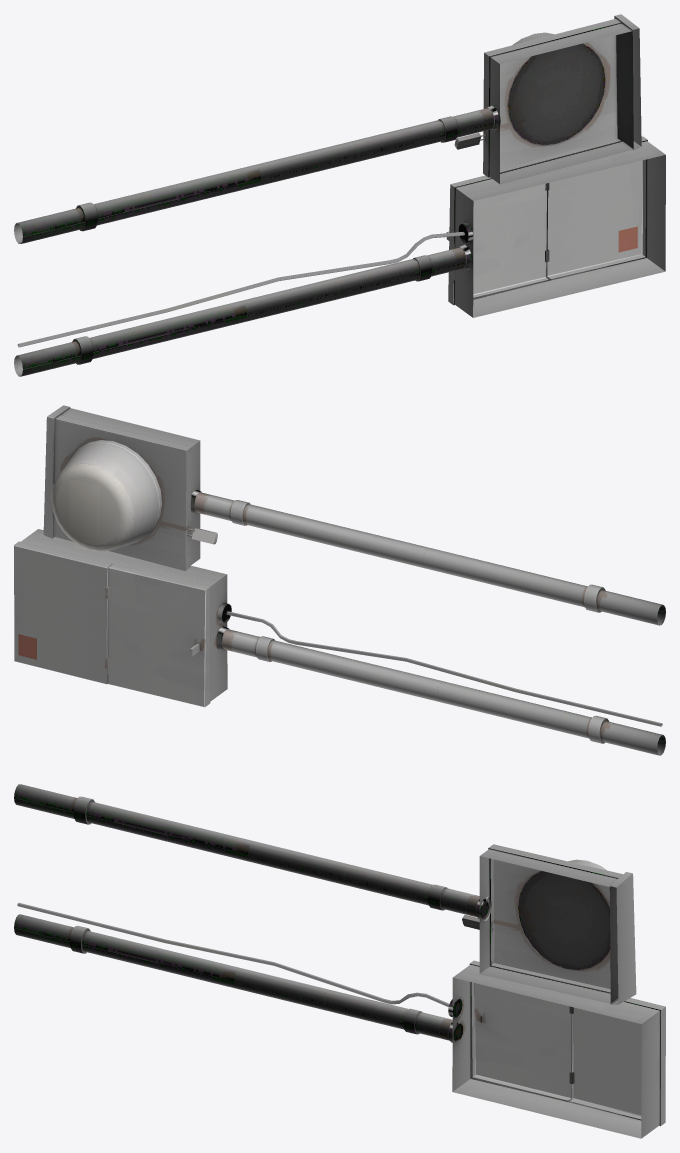
File: props_mining_junctionbox02.glb
3 views of the same model, one above another, from view 1: azimuth 30°, elevation 25°; view 2: azimuth 150°, elevation 25°; view 3: azimuth 330°, elevation 25° (orthographic).
Visible parts, largest first — view 1: models/props_mining/junctionbox02; view 2: models/props_mining/junctionbox02; view 3: models/props_mining/junctionbox02.
Boxes of the visible parts, x1=… form: models/props_mining/junctionbox02: x1=14, y1=14, x2=665, y2=376; models/props_mining/junctionbox02: x1=14, y1=405, x2=665, y2=755; models/props_mining/junctionbox02: x1=14, y1=784, x2=665, y2=1138.
Size of the model in its own units: 92.06 by 34.48 by 10.68.
Materials: 1 (1 with a texture image).
